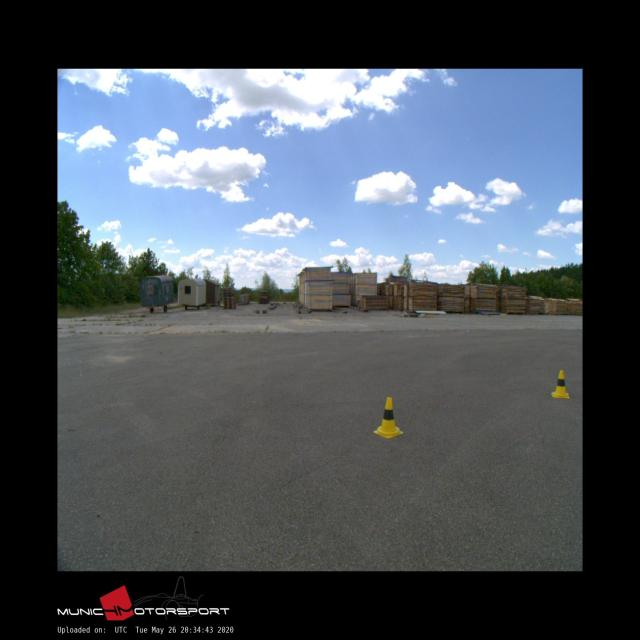yellow_cone: (373, 396, 402, 436), (550, 370, 568, 397)
